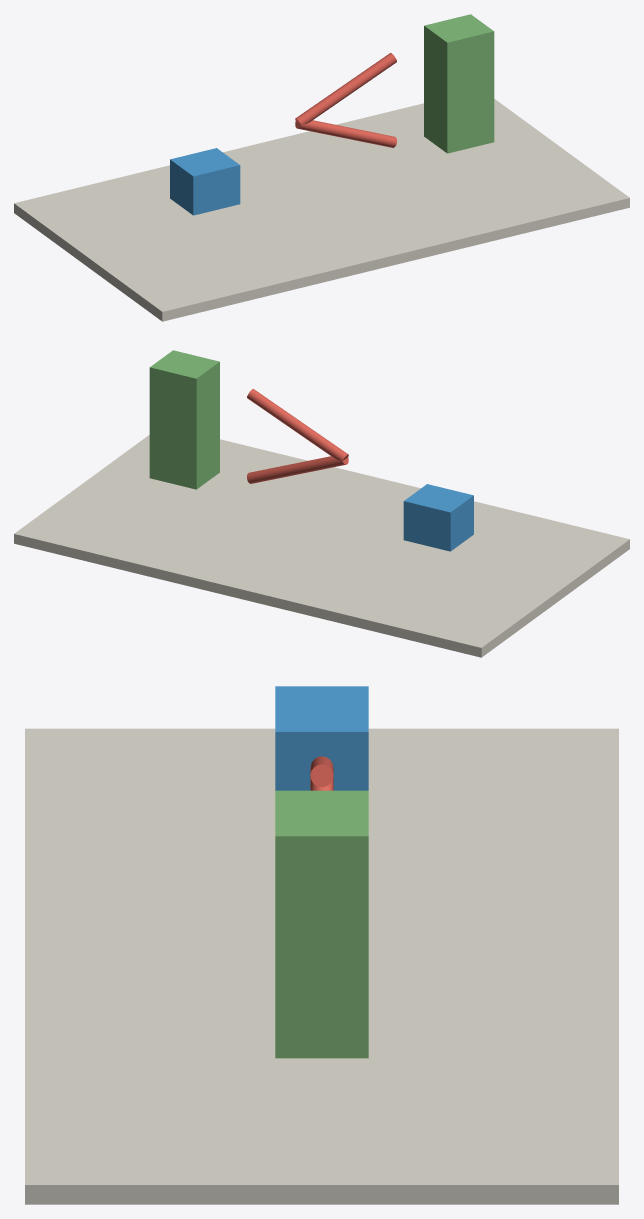
Rendered from math-advanced-inequality.glb.
The picture shows the model from 3 angles, top to bottom: view 1: azimuth 30°, elevation 25°; view 2: azimuth 150°, elevation 25°; view 3: azimuth 270°, elevation 25°; orthographic projection. The views are drawn at different scales.
Visible parts, largest first — view 1: advanced-math-base, larger-stack, smaller-stack, less-than-upper-arm, less-than-lower-arm; view 2: advanced-math-base, larger-stack, smaller-stack, less-than-upper-arm, less-than-lower-arm; view 3: advanced-math-base, larger-stack, smaller-stack.
Boxes of the visible parts, left/top/right/bottom form: advanced-math-base: left=14, top=99, right=629, bottom=321; larger-stack: left=424, top=14, right=494, bottom=153; smaller-stack: left=170, top=148, right=240, bottom=215; less-than-upper-arm: left=295, top=53, right=396, bottom=124; less-than-lower-arm: left=295, top=120, right=396, bottom=147; advanced-math-base: left=14, top=435, right=629, bottom=657; larger-stack: left=149, top=350, right=219, bottom=489; smaller-stack: left=403, top=484, right=473, bottom=551; less-than-upper-arm: left=247, top=389, right=348, bottom=460; less-than-lower-arm: left=247, top=456, right=348, bottom=483; advanced-math-base: left=25, top=728, right=618, bottom=1204; larger-stack: left=275, top=790, right=368, bottom=1058; smaller-stack: left=275, top=686, right=368, bottom=790.
Size of what is drawn, in the model's own units: 3 by 0.91 by 1.65.
